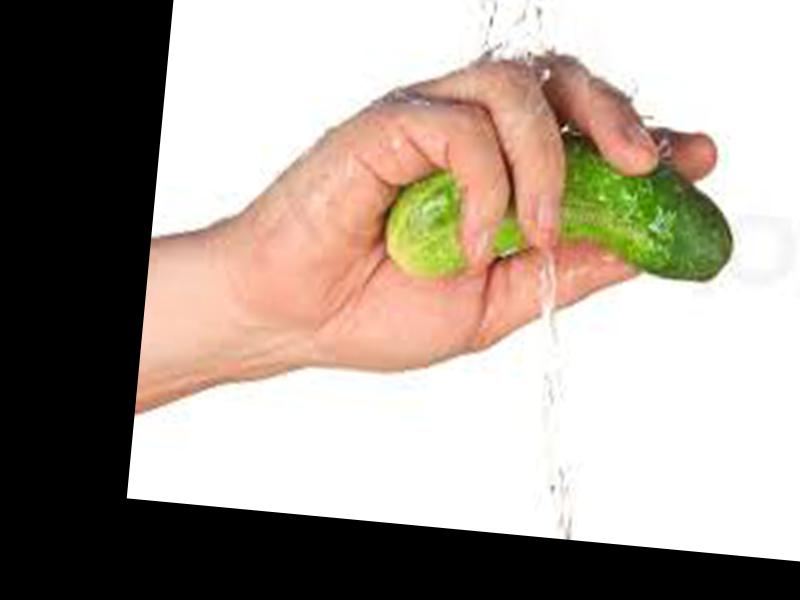Cucumber: (384, 128, 742, 300)
